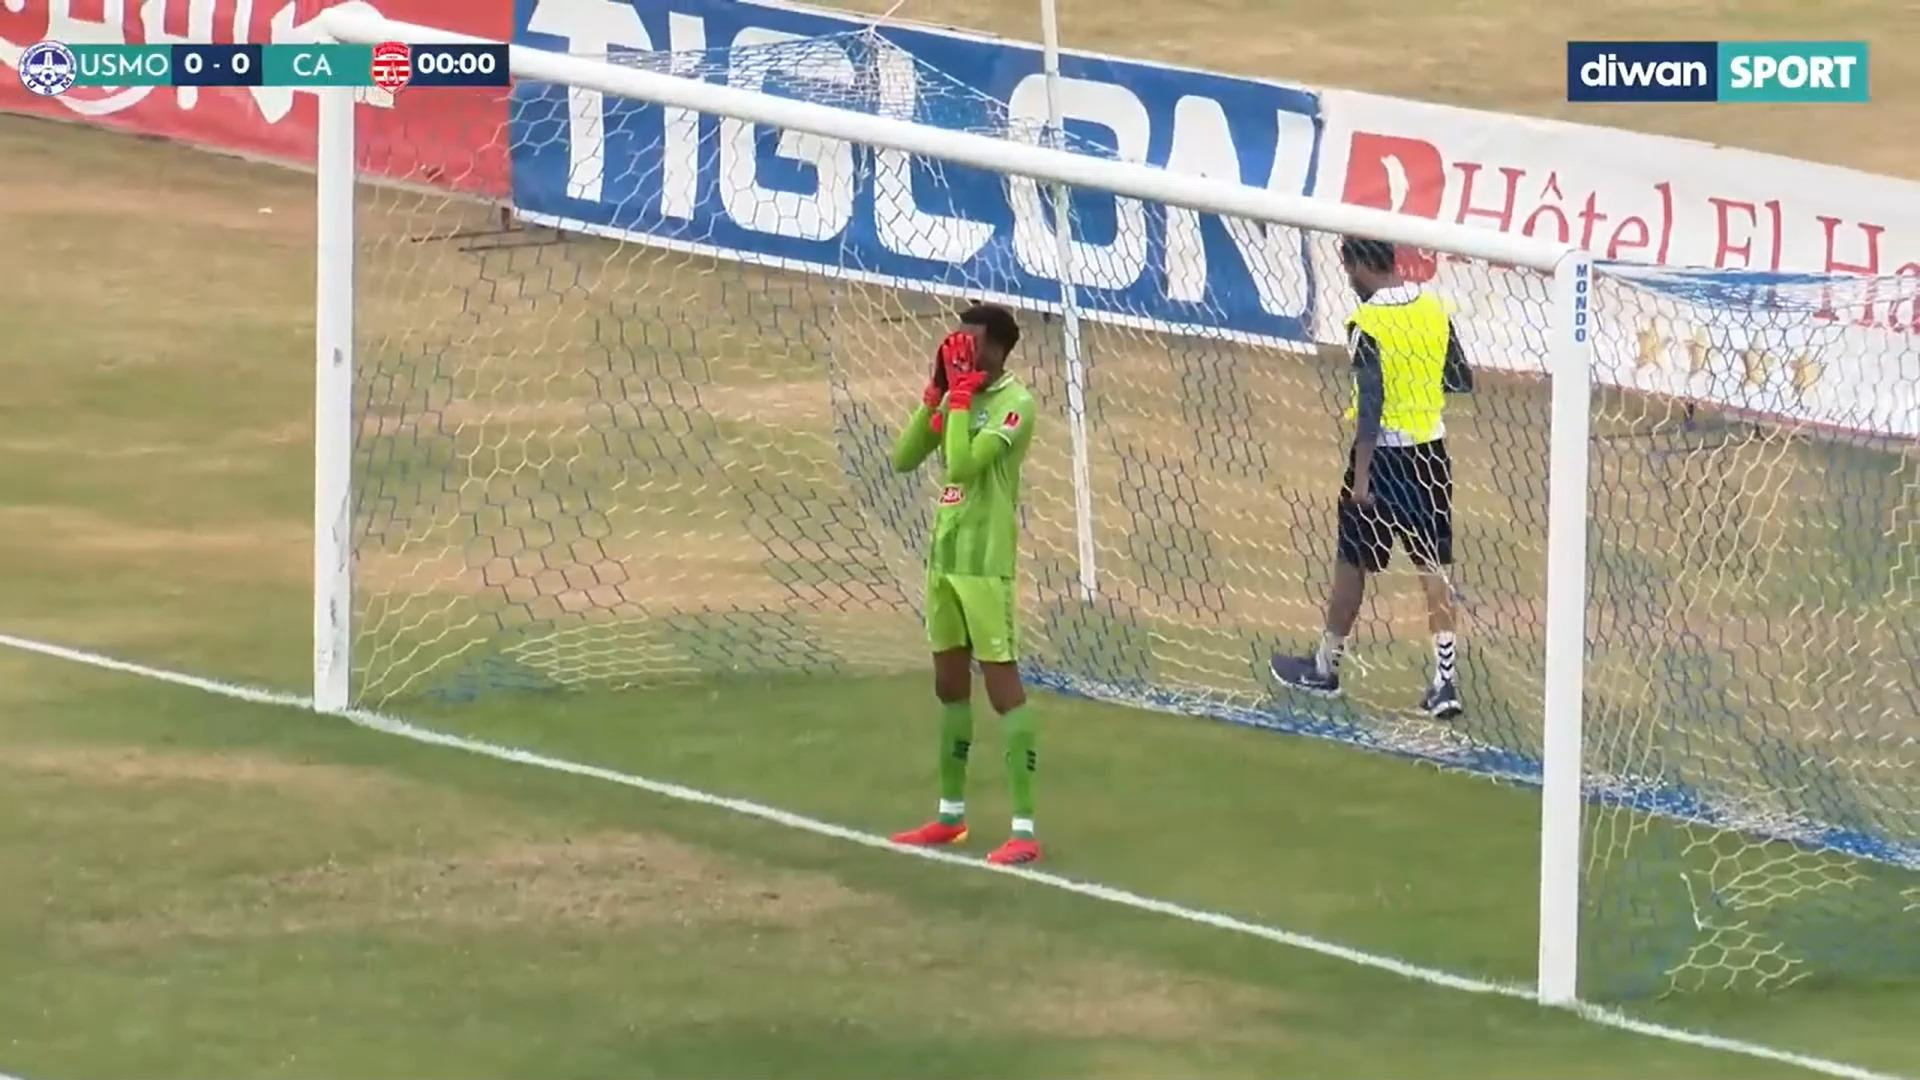goalkeeper: (886, 284, 1055, 878)
